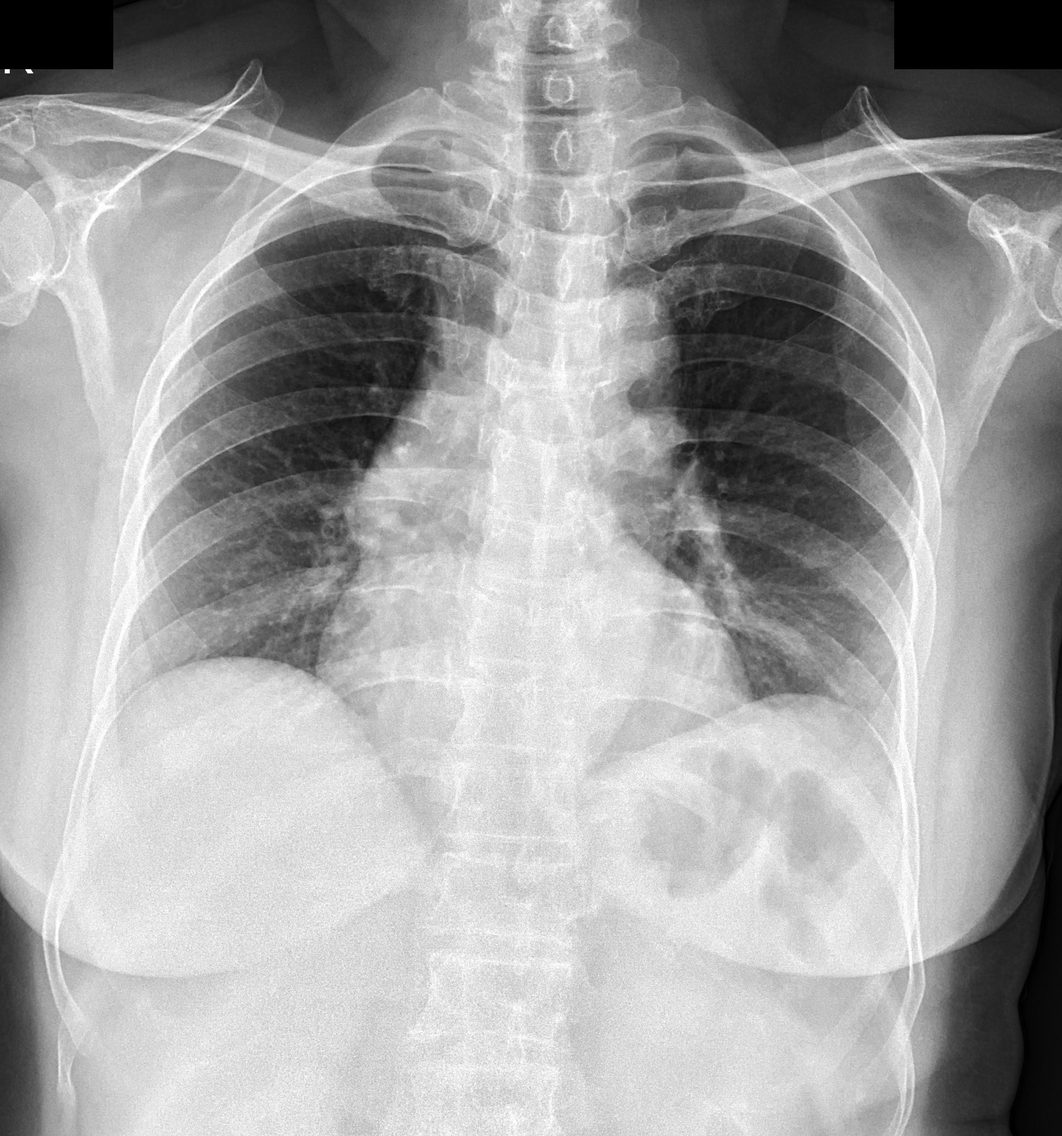Aortic enlargement: (573, 291, 684, 398)
